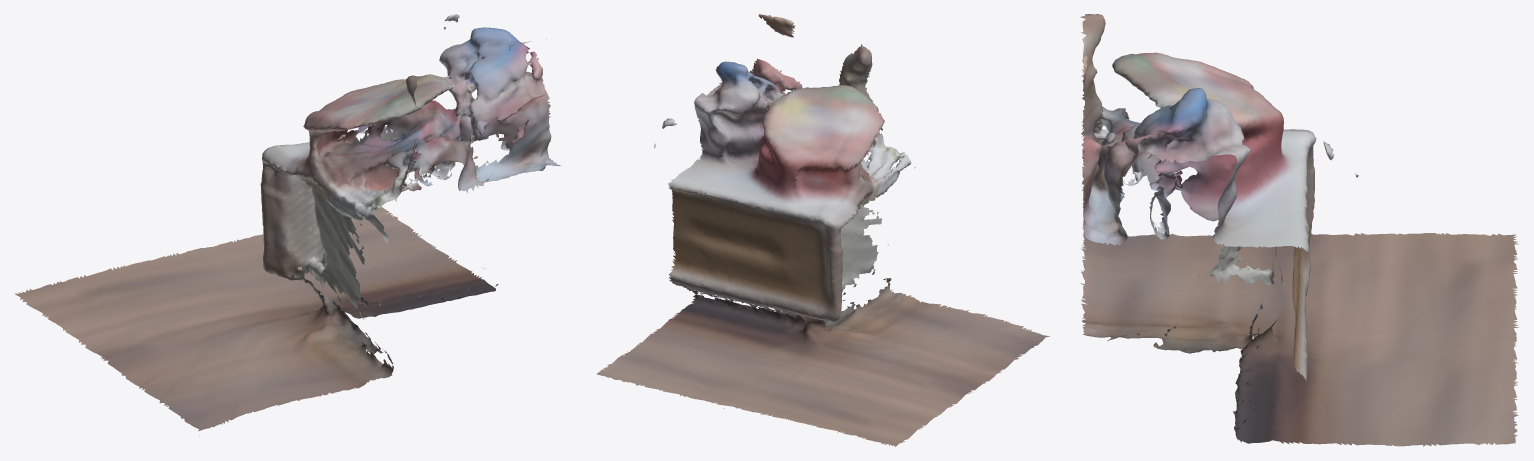
The model's file is apartment-full-86-92612e095e1b.glb.
3 renders of one model, left to right at view 1: azimuth 30°, elevation 25°; view 2: azimuth 150°, elevation 25°; view 3: azimuth 270°, elevation 25°, orthographic. The views are drawn at different scales.
Bounding box in the file's own units: 0.892 × 0.779 × 0.787.
